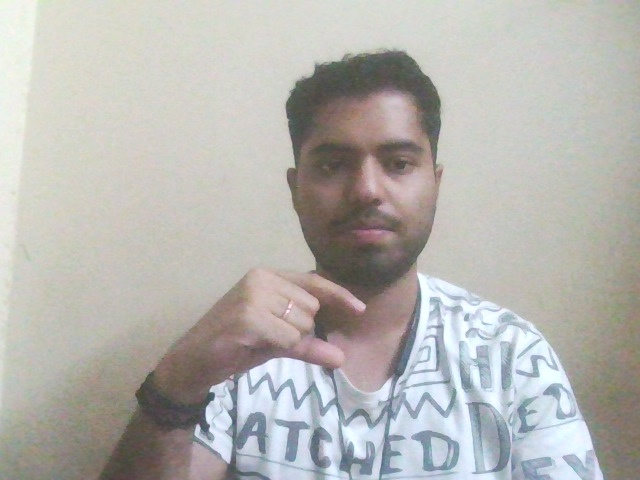U: (155, 245, 373, 405)
